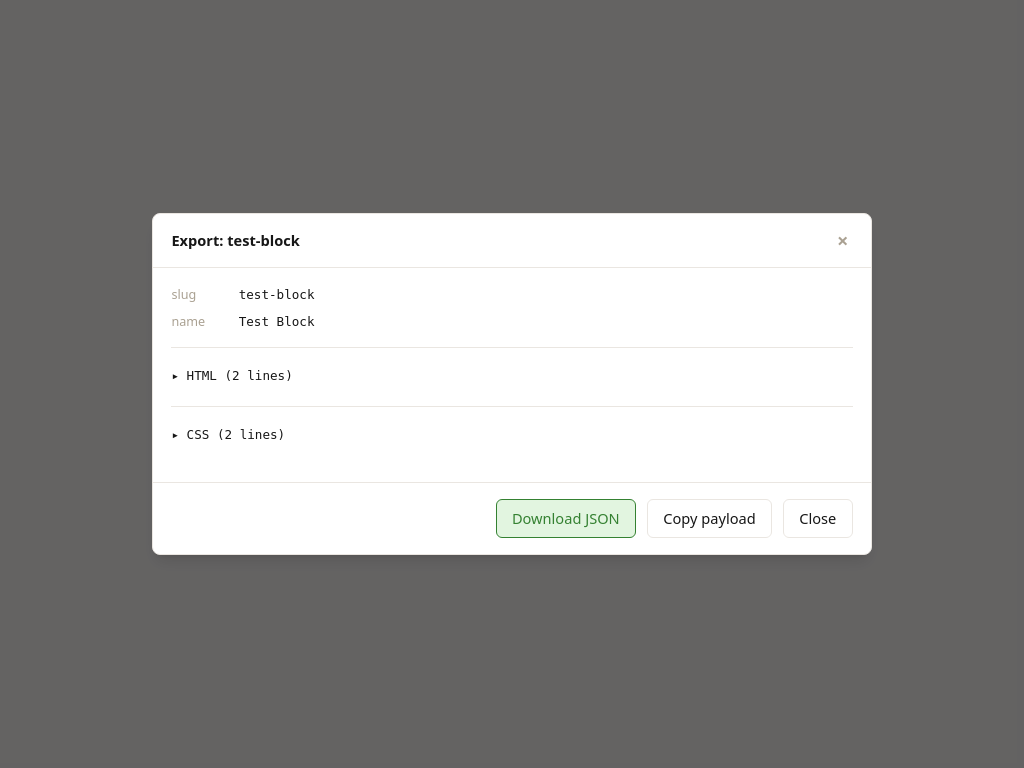
Test case: ExportDialog — toggle previews › reveals CSS preview content on toggle click
The width and height of the screenshot is (1024, 768).
Step 1. Click the button "▸ CSS (2 lines)" → x=202, y=434, box [171,418,852,453]
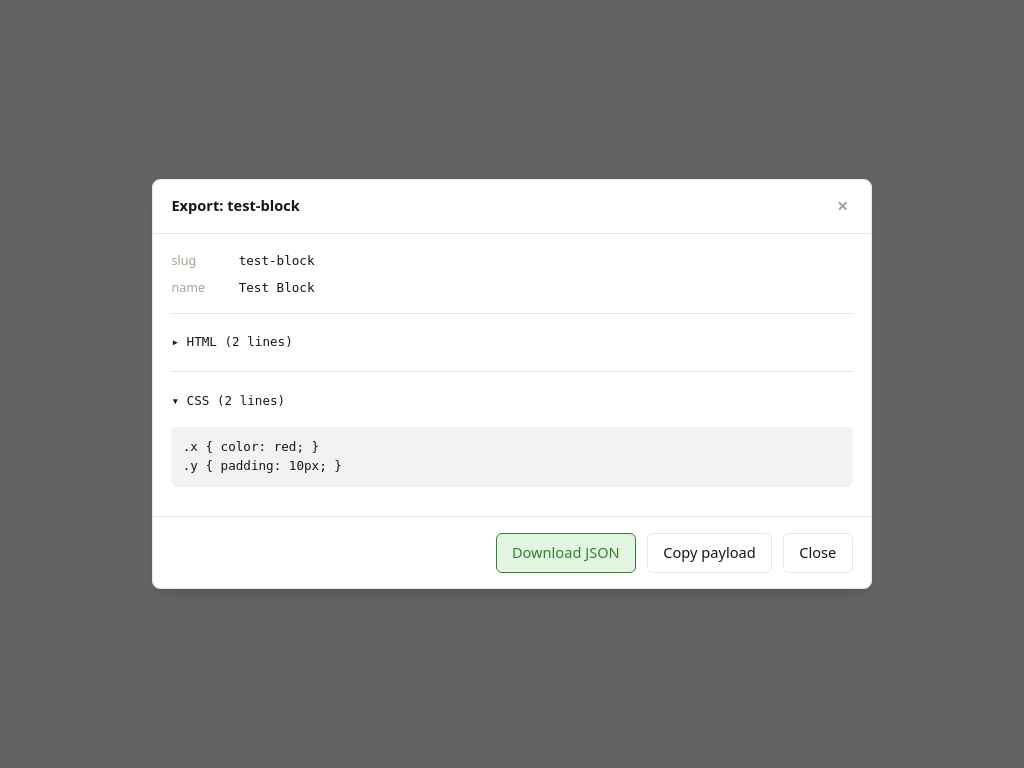
Expected: the text ".x { color: red; } .y { padding: 10px; }" is shown, [171,426,852,487]
